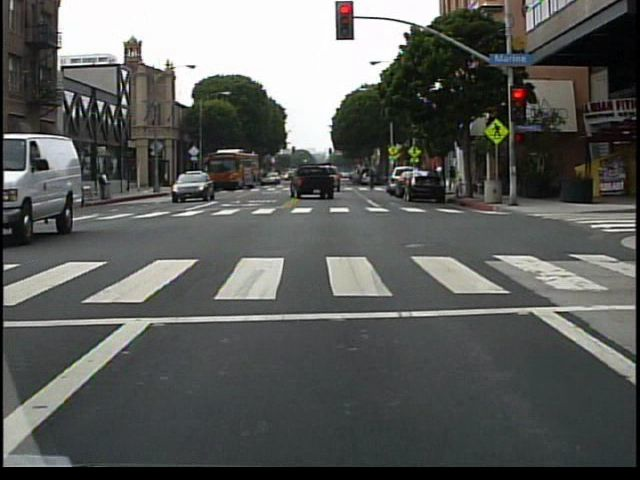person: (96, 168, 113, 203)
